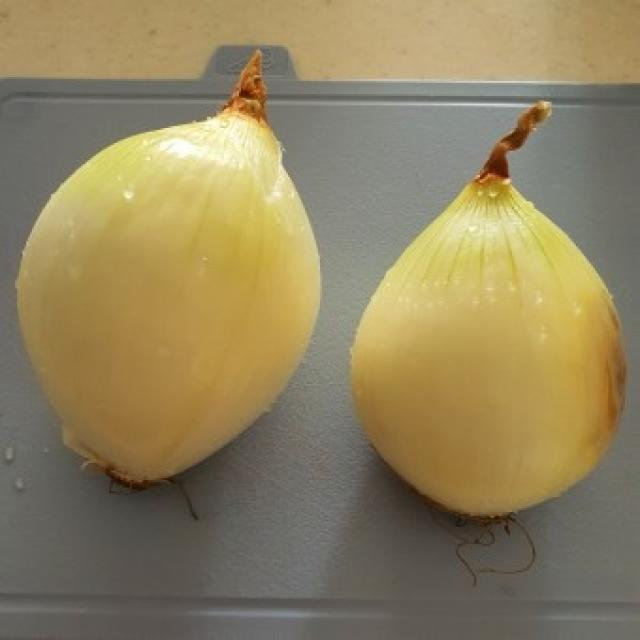onion: (13, 74, 324, 480), (347, 117, 631, 528)
